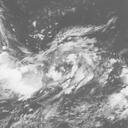cyclone: (36, 41, 93, 94)
